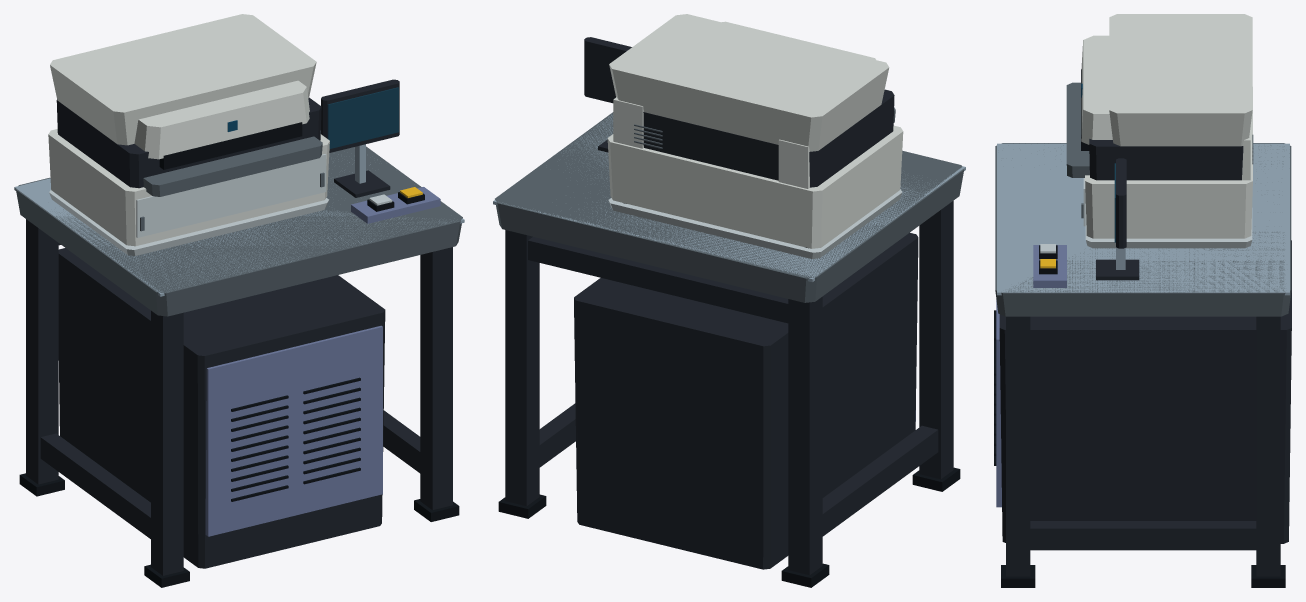
The model's file is lattice-lightsheet-7.glb.
The picture shows the model from 3 angles, left to right: view 1: azimuth 30°, elevation 25°; view 2: azimuth 150°, elevation 25°; view 3: azimuth 270°, elevation 25°; orthographic projection. The views are drawn at different scales.
Visible parts, largest first — view 1: closed_rack, table, hood, shell, recess_shadow, viewer_screen, baseplate, viewer_keys, display_stand; view 2: closed_rack, table, hood, shell, recess_shadow, baseplate, viewer_screen; view 3: table, closed_rack, hood, shell, recess_shadow, baseplate, viewer_screen, display_stand, viewer_keys.
Boxes of the visible parts, x1=… form: closed_rack: x1=58, y1=248, x2=385, y2=568; table: x1=14, y1=130, x2=464, y2=587; hood: x1=50, y1=14, x2=316, y2=159; shell: x1=48, y1=129, x2=329, y2=246; recess_shadow: x1=56, y1=97, x2=322, y2=196; viewer_screen: x1=321, y1=79, x2=399, y2=152; baseplate: x1=49, y1=190, x2=328, y2=255; viewer_keys: x1=351, y1=187, x2=440, y2=223; display_stand: x1=334, y1=144, x2=390, y2=197; closed_rack: x1=574, y1=232, x2=918, y2=569; table: x1=493, y1=112, x2=965, y2=587; hood: x1=609, y1=14, x2=889, y2=151; shell: x1=607, y1=97, x2=903, y2=248; recess_shadow: x1=643, y1=89, x2=895, y2=187; baseplate: x1=608, y1=189, x2=902, y2=258; viewer_screen: x1=584, y1=37, x2=631, y2=103; table: x1=995, y1=143, x2=1291, y2=587; closed_rack: x1=994, y1=240, x2=1291, y2=543; hood: x1=1081, y1=14, x2=1252, y2=146; shell: x1=1081, y1=87, x2=1253, y2=238; recess_shadow: x1=1066, y1=69, x2=1243, y2=180; baseplate: x1=1085, y1=204, x2=1252, y2=248; viewer_screen: x1=1114, y1=158, x2=1126, y2=248; display_stand: x1=1096, y1=247, x2=1139, y2=280; viewer_keys: x1=1033, y1=245, x2=1066, y2=287.
Size of the model in its own units: 0.9 by 1.21 by 0.754.
